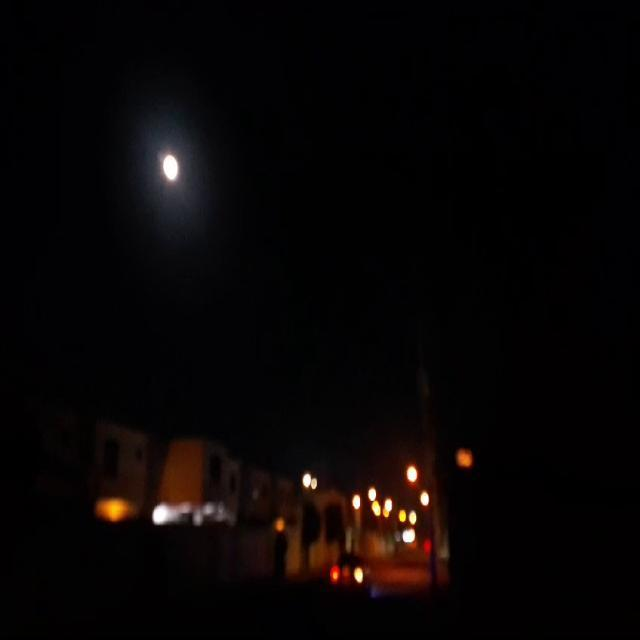moon: (163, 150, 183, 184)
